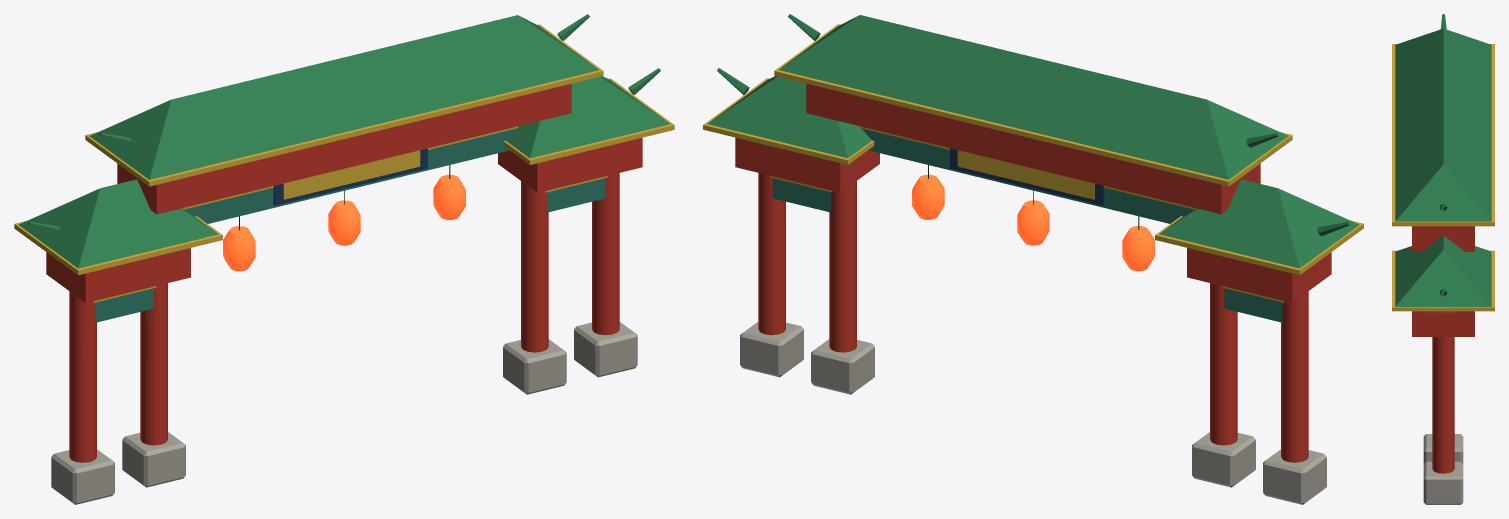
Rendered from paifang.glb.
3 views of the same model, side by side, from view 1: azimuth 30°, elevation 25°; view 2: azimuth 150°, elevation 25°; view 3: azimuth 270°, elevation 25° (orthographic). The views are drawn at different scales.
Parts seen in each view (by area): view 1: paifang; view 2: paifang; view 3: paifang.
Part boxes in pixels (<box>): paifang: <box>14,14,674,504</box>; paifang: <box>703,14,1363,504</box>; paifang: <box>1392,14,1494,504</box>.
Bounding box in the file's own units: 22.25 × 12.5 × 3.9.
